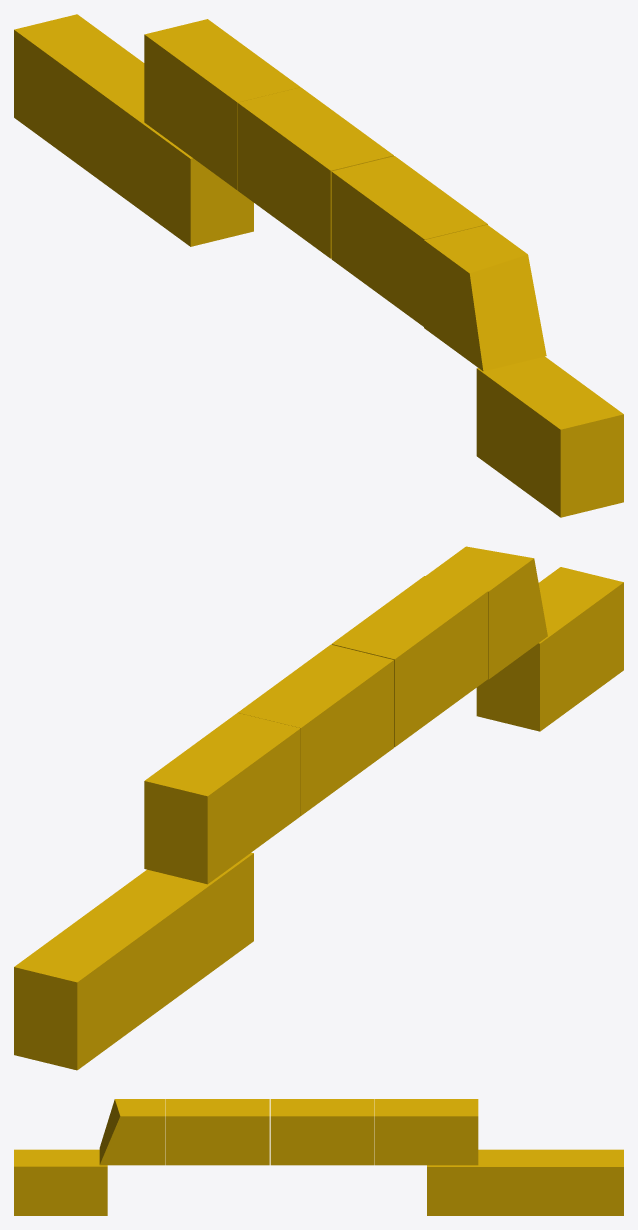
Rendered from Wall_Cinderblock_02_Lod1.fbx.
3 renders of one model, top to bottom at view 1: azimuth 30°, elevation 25°; view 2: azimuth 150°, elevation 25°; view 3: azimuth 270°, elevation 25°, orthographic. The views are drawn at different scales.
Parts seen in each view (by area): view 1: Wall_Cinderblock_02_Lod1; view 2: Wall_Cinderblock_02_Lod1; view 3: Wall_Cinderblock_02_Lod1.
Boxes of the visible parts, left/top/right/bottom form: Wall_Cinderblock_02_Lod1: left=14, top=14, right=623, bottom=517; Wall_Cinderblock_02_Lod1: left=14, top=546, right=623, bottom=1070; Wall_Cinderblock_02_Lod1: left=14, top=1099, right=623, bottom=1215.
Size of the model in its own units: 20.29 by 54.18 by 300.
